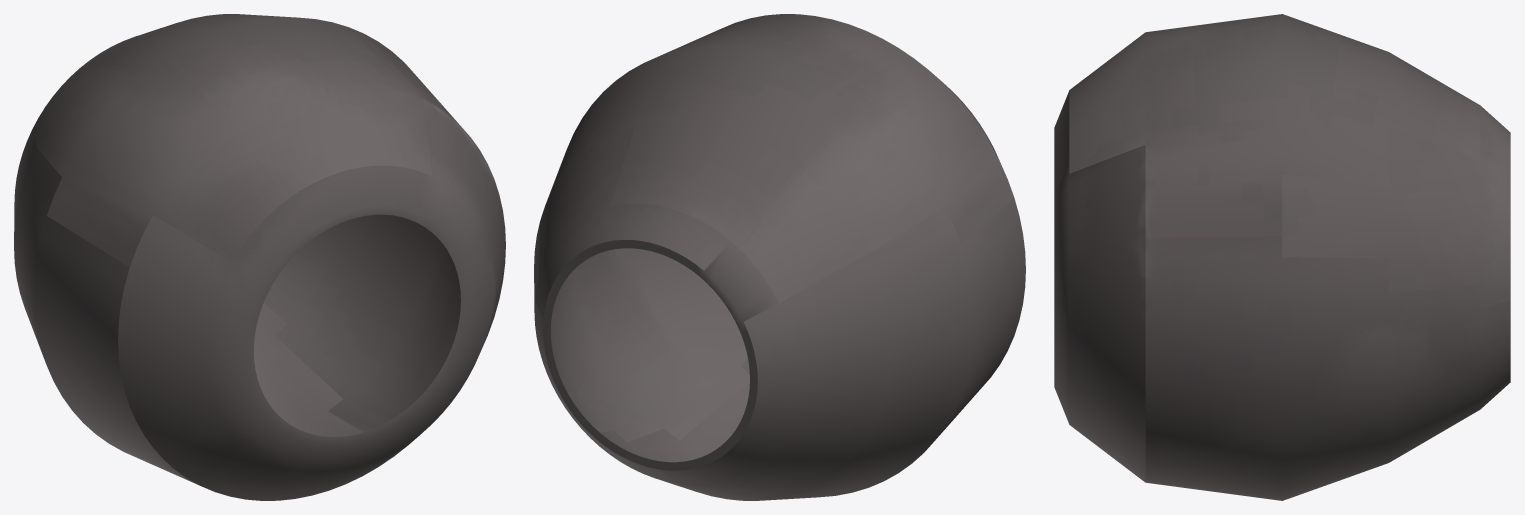
The model's file is machine_body__reservoir_shell.glb.
3 views of the same model, side by side, from view 1: azimuth 30°, elevation 25°; view 2: azimuth 150°, elevation 25°; view 3: azimuth 270°, elevation 25° (orthographic).
Visible parts, largest first — view 1: world; view 2: world; view 3: world.
Boxes of the visible parts, x1=… form: world: x1=14, y1=14, x2=505, y2=500; world: x1=534, y1=14, x2=1025, y2=500; world: x1=1054, y1=14, x2=1510, y2=500.
Bounding box in the file's own units: 0.32 × 0.32 × 0.3.
Materials: 1 (1 with a texture image).
